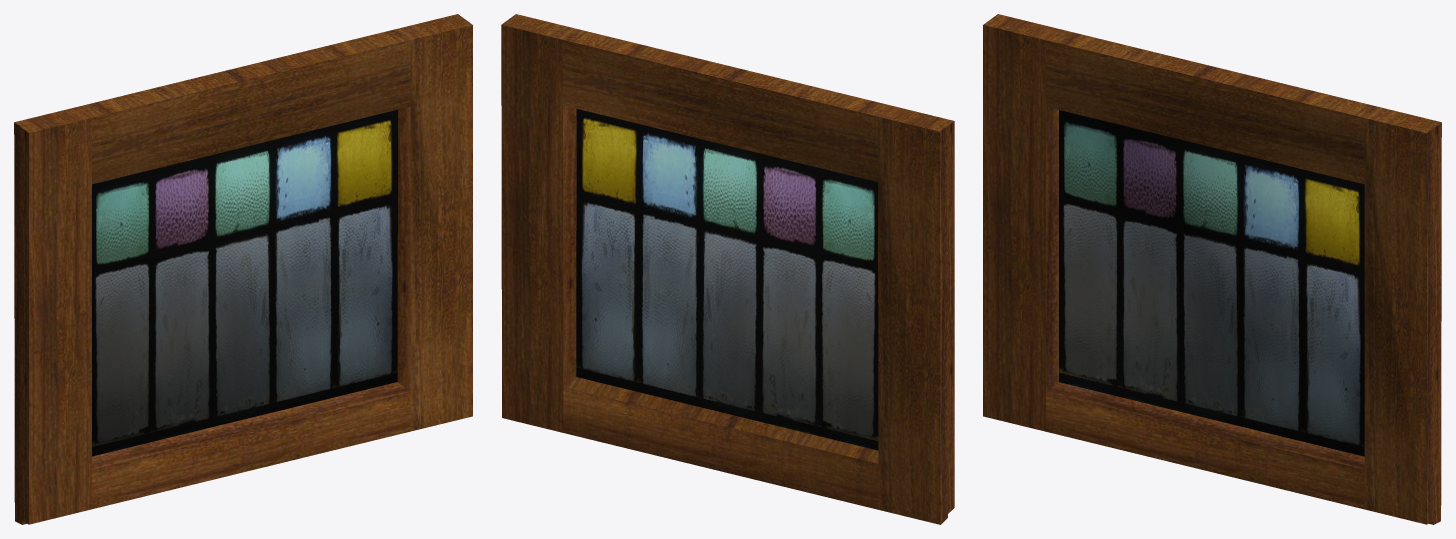
File: StableDoorTeakUPPER05.fbx
3 renders of one model, left to right at view 1: azimuth 30°, elevation 25°; view 2: azimuth 150°, elevation 25°; view 3: azimuth 330°, elevation 25°, orthographic.
Visible parts, largest first — view 1: default; view 2: default; view 3: default.
Part boxes in pixels (x1,y1,x2,y2): default: (14,14,472,524); default: (501,14,954,524); default: (983,14,1441,524).
Bounding box in the file's own units: 113 × 96.82 × 6.56.
